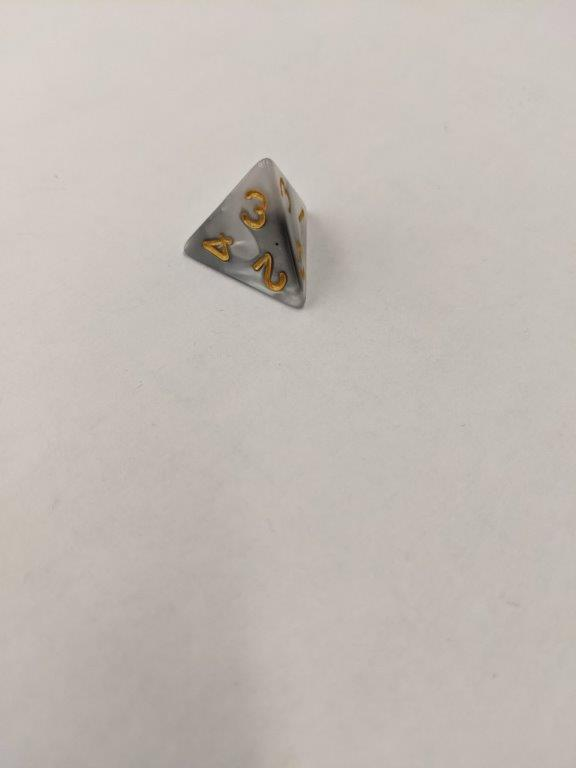d4-3: (180, 157, 318, 316)
